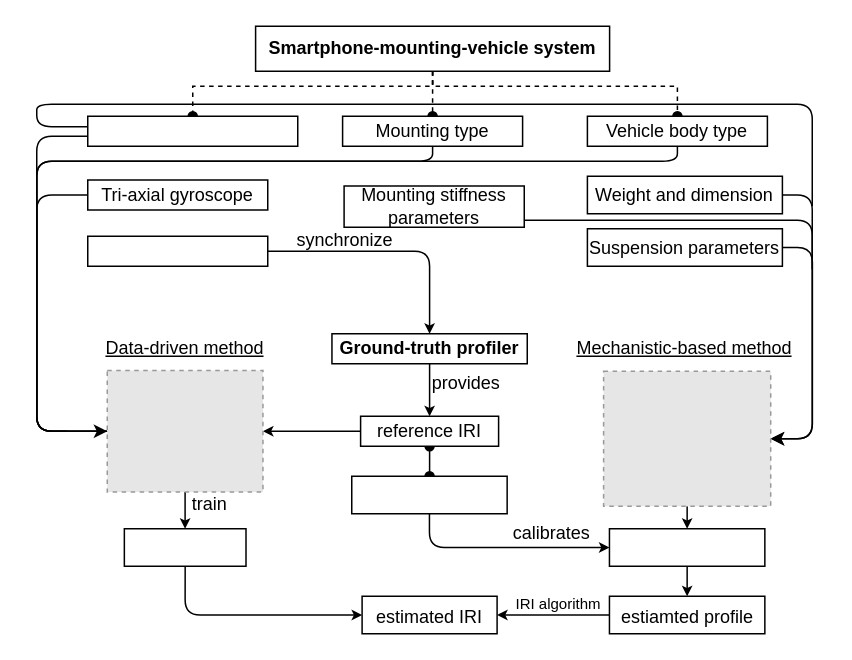
This 852x660 diagram has some shape labels left out. Grey dashed boxes stand in for pictures. The shapes that lost their labels are listed below. From the top down, each one's centre as x and y in pixels, then its label:
the point at 192,130: Tri-axial accelerometer
the point at 177,250: smartphone GPS
the point at 428,494: reference profile
the point at 184,546: DL model
the point at 686,546: calibrated system
